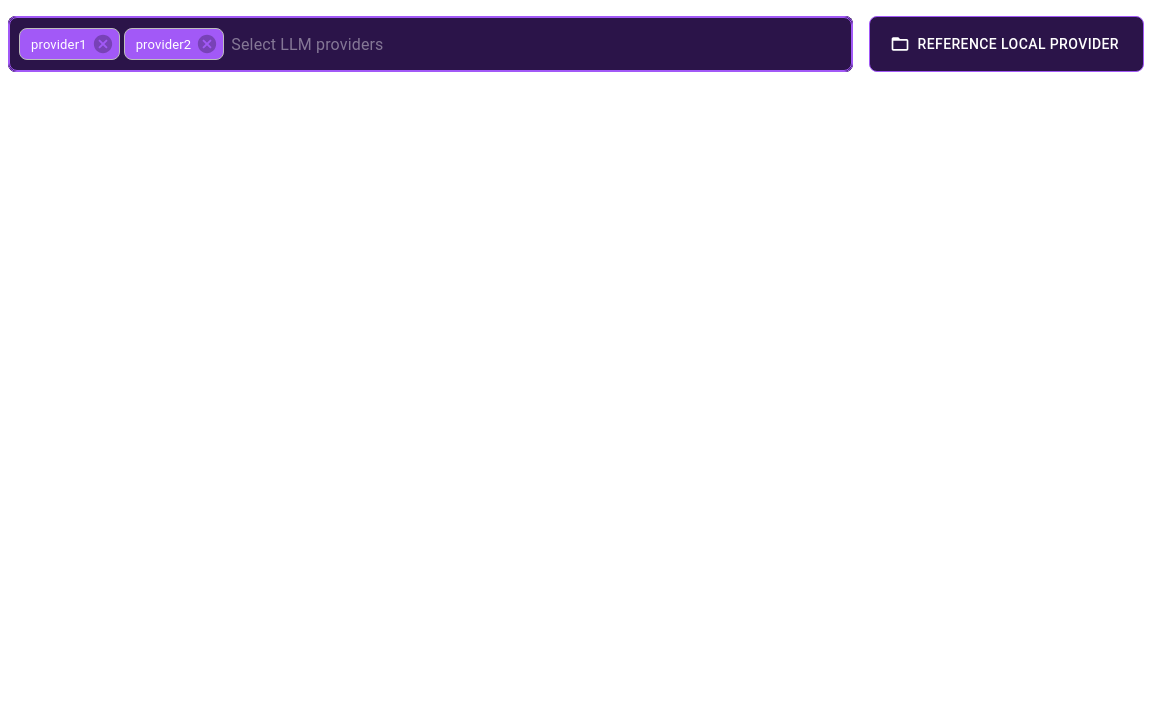
Test: ProviderSelector › shows validation error for invalid file extension
The width and height of the screenshot is (1152, 720).
Click the button "Reference Local Provider". click: point(1006, 44)
box: x1=869 y1=16 x2=1144 y2=72
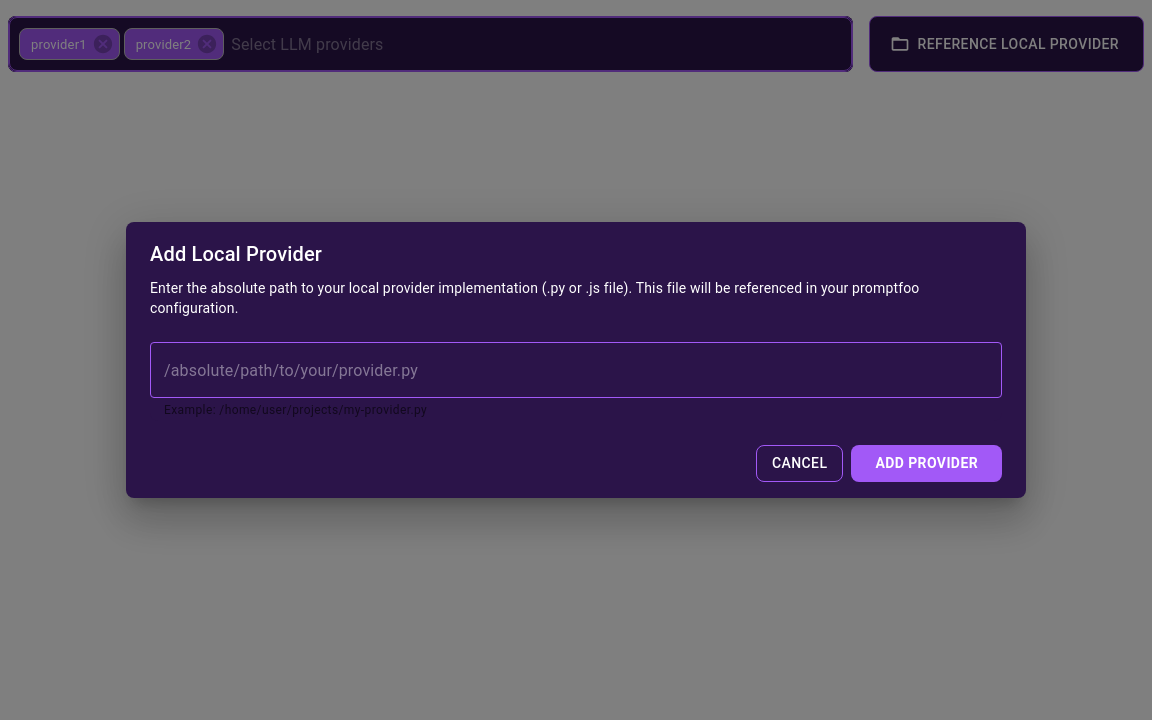
# Fill in invalid path
Type "/path/to/provider.txt" into the field with placeholder "/absolute/path/to/your/provider.py". click: point(576, 370)
box: x1=150 y1=342 x2=1002 y2=398
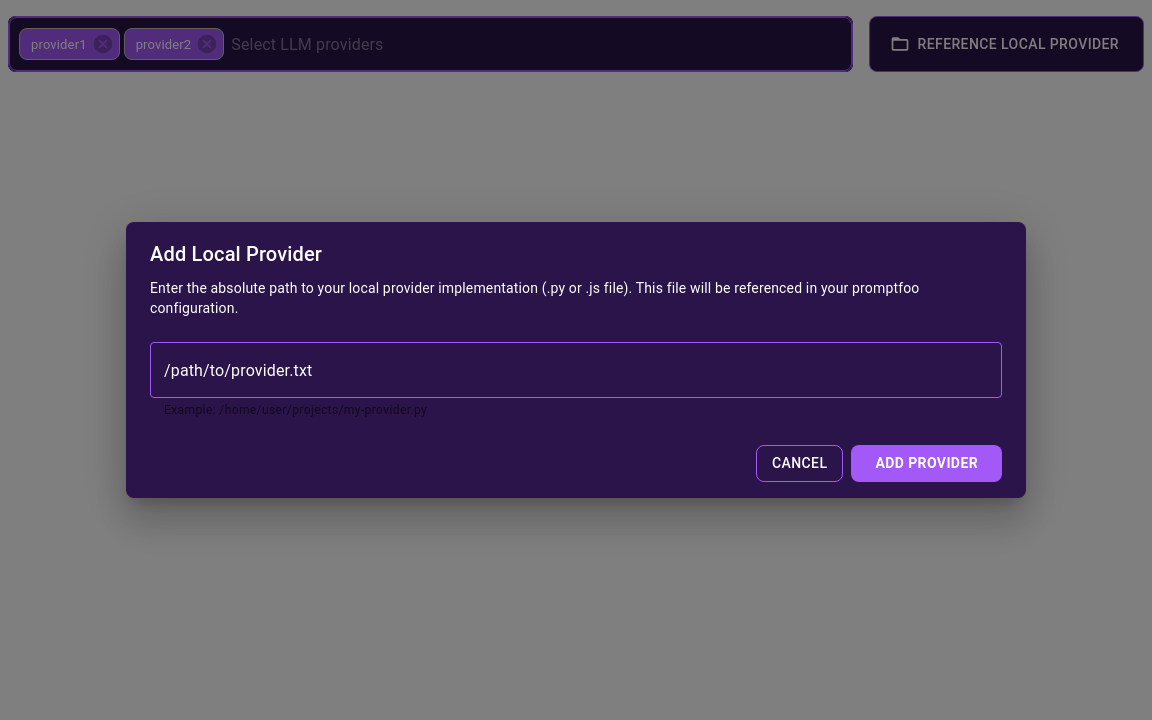
# Click add button
Click the button "Add Provider". click: point(927, 463)
box: x1=851 y1=445 x2=1002 y2=482
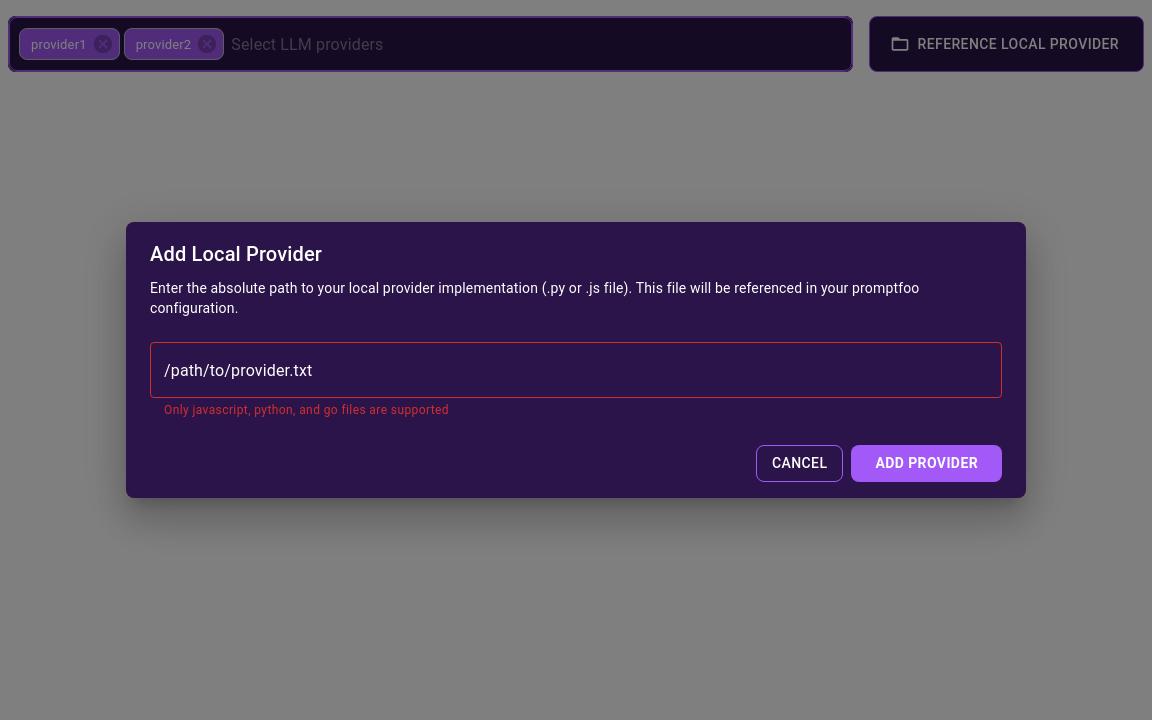
Result: the text "Only javascript, python, and go files are supported" is shown at x1=164 y1=403 x2=449 y2=417
